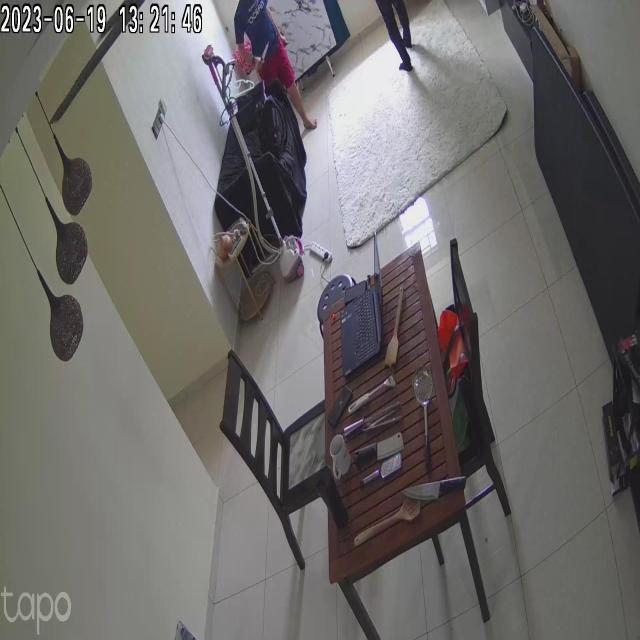Knife: (397, 472, 473, 503), (247, 35, 280, 64)
